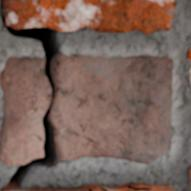brick: (1, 0, 174, 33), (2, 184, 132, 190), (129, 183, 172, 190), (188, 166, 190, 190), (187, 49, 190, 60)
broken_brick: (53, 53, 173, 164), (0, 56, 50, 166)
crack: (0, 2, 63, 188), (126, 184, 152, 190), (168, 74, 172, 109), (101, 188, 109, 190), (168, 144, 170, 150)
